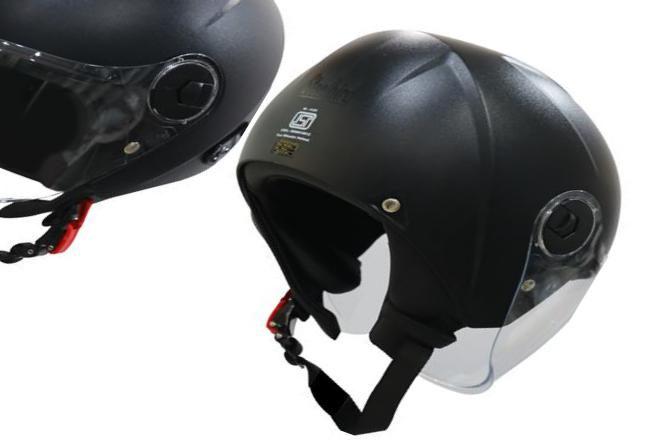helmet: (244, 18, 630, 440)
